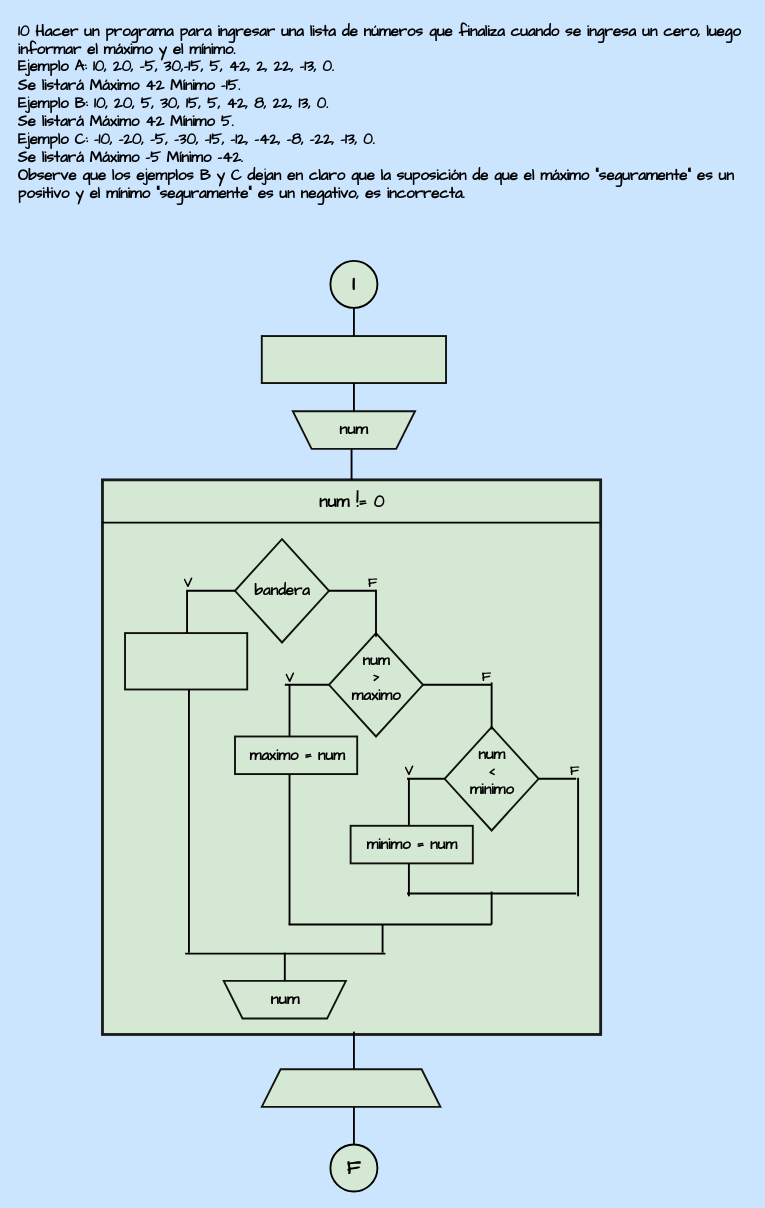
This 765x1208 diagram has some shape labels left out. Each missing label, with the centre of its shape:
"int num, maximo, minimo bool bandera = true" goes at (353,359).
"maximo = num minimo = num bandera = false" goes at (186,661).
"maximo, minimo" goes at (350,1087).
